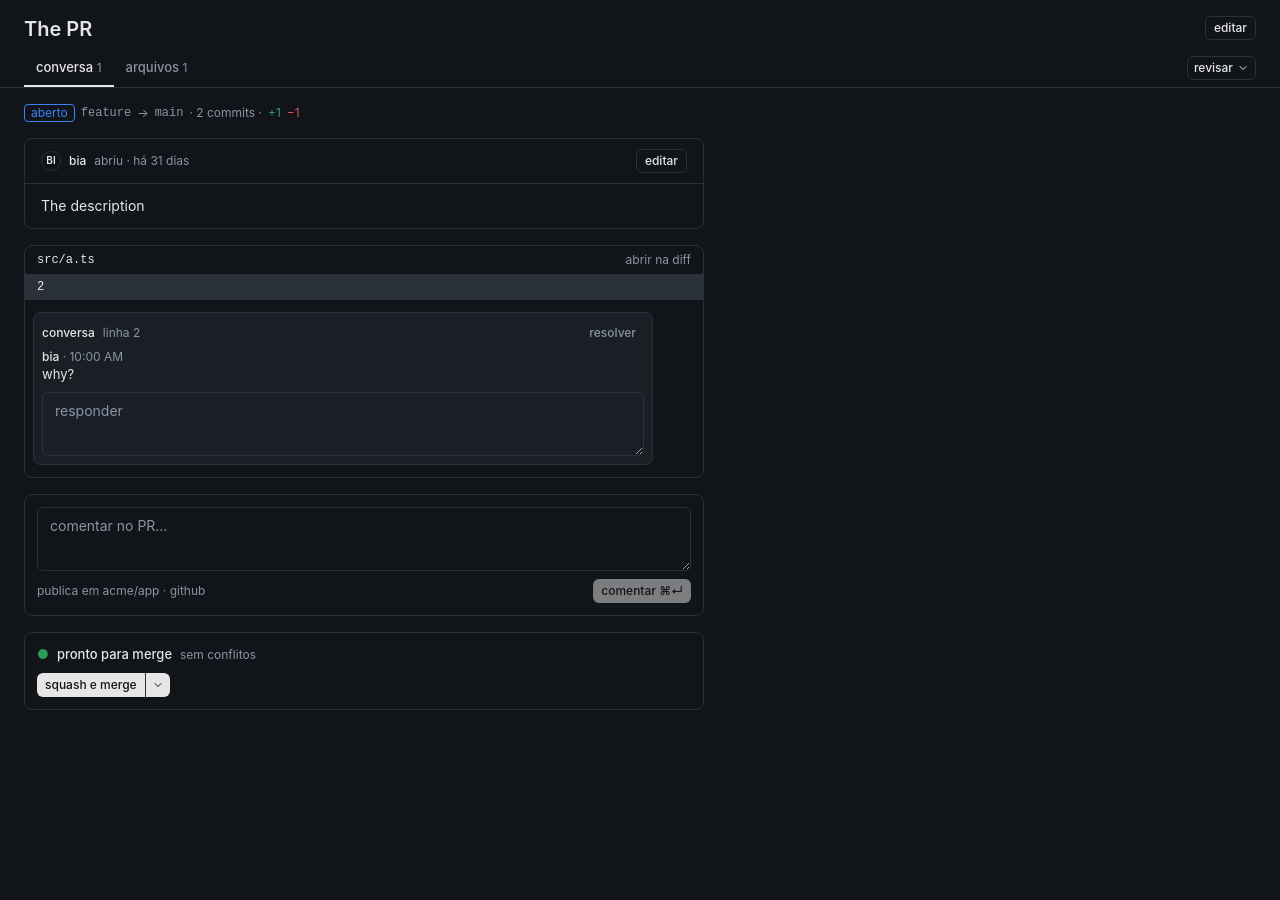
Test: a comment waits for a summary or a draft; an approval or a change request goes without; GitHub's refusal stays in the popover (#758)
Click the button "revisar" at (1221, 68), box [1187, 56, 1256, 80]
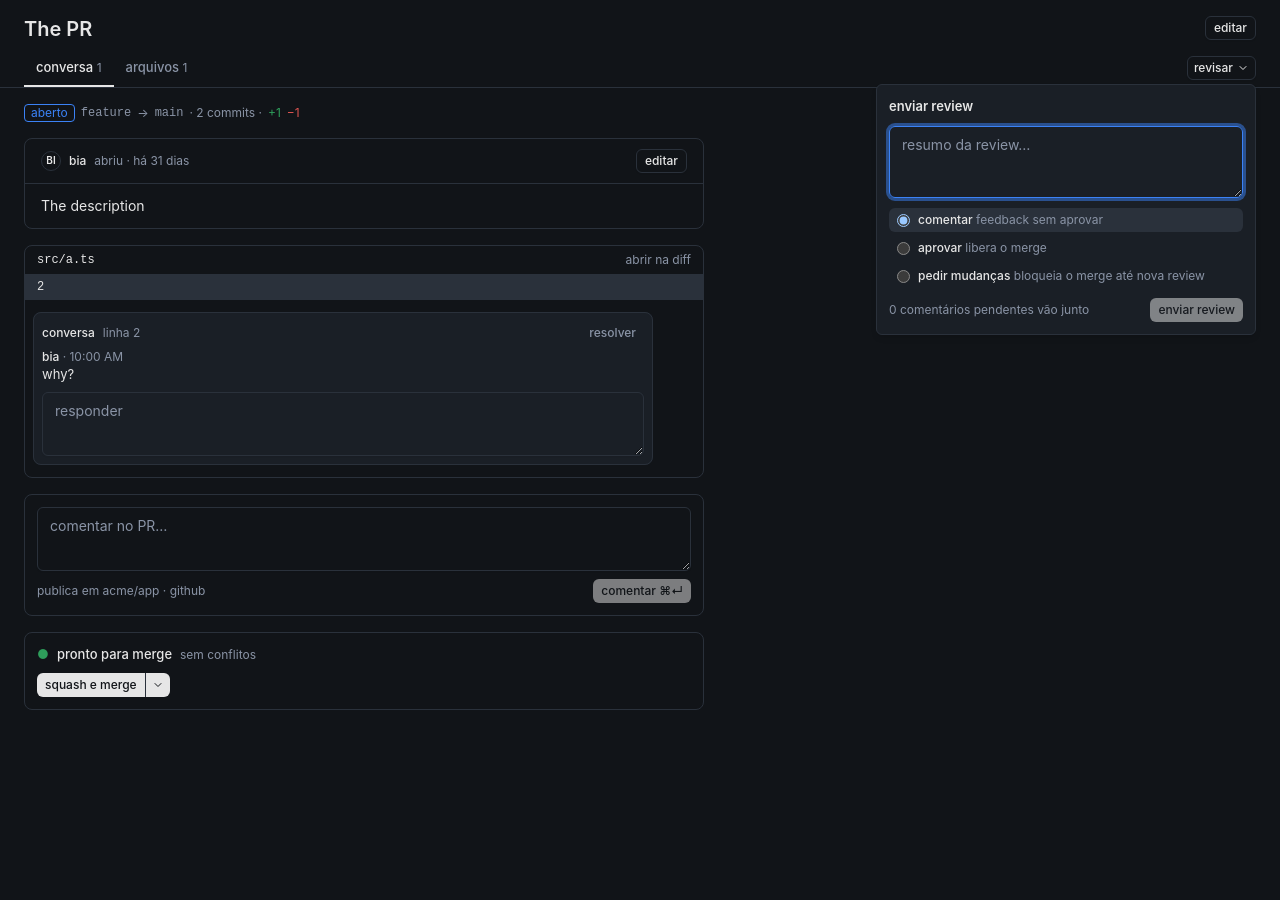
Result: the button "enviar review" is disabled at [1150, 298, 1243, 322]
Type "x" into the text box labelled "resumo da review…" at (1066, 162), box [889, 126, 1243, 198]
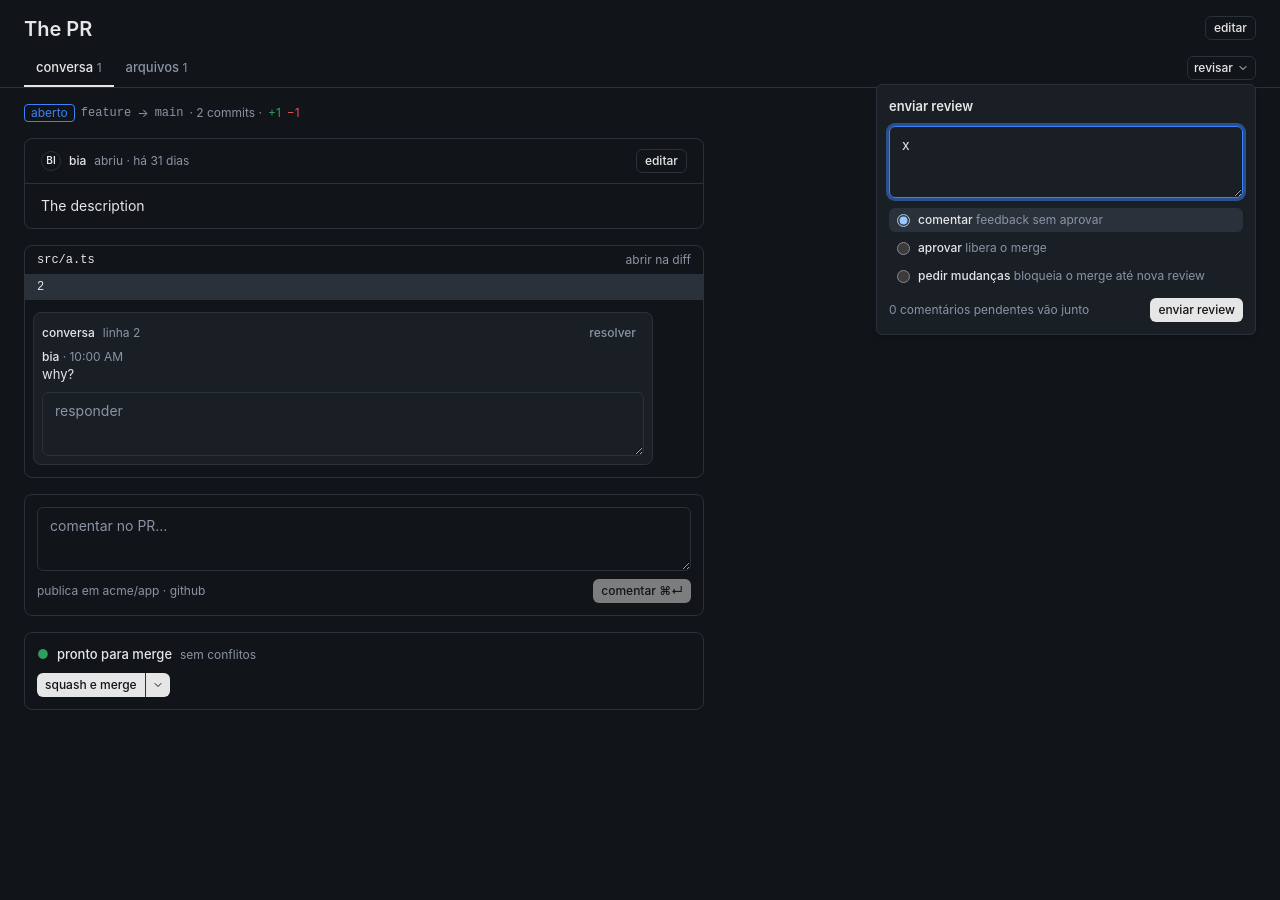
Result: the button "enviar review" is enabled at [1150, 298, 1243, 322]
Clear the text box named "resumo da review…" at (1066, 162), box [889, 126, 1243, 198]
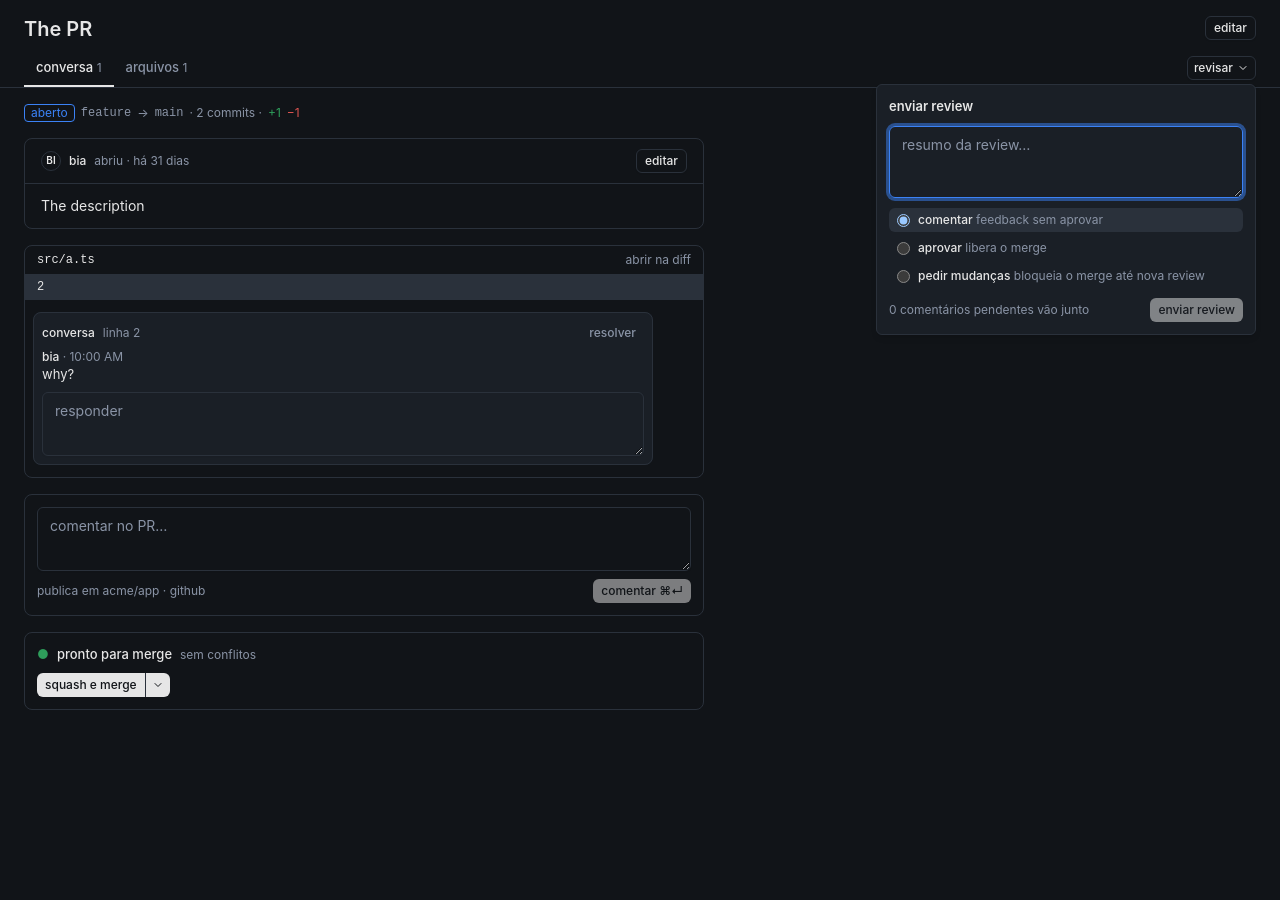
Result: the button "enviar review" is disabled at [1150, 298, 1243, 322]
Click the radio button labelled "pedir mudanças bloqueia o merge até nova review" at (904, 276), box [897, 270, 910, 283]
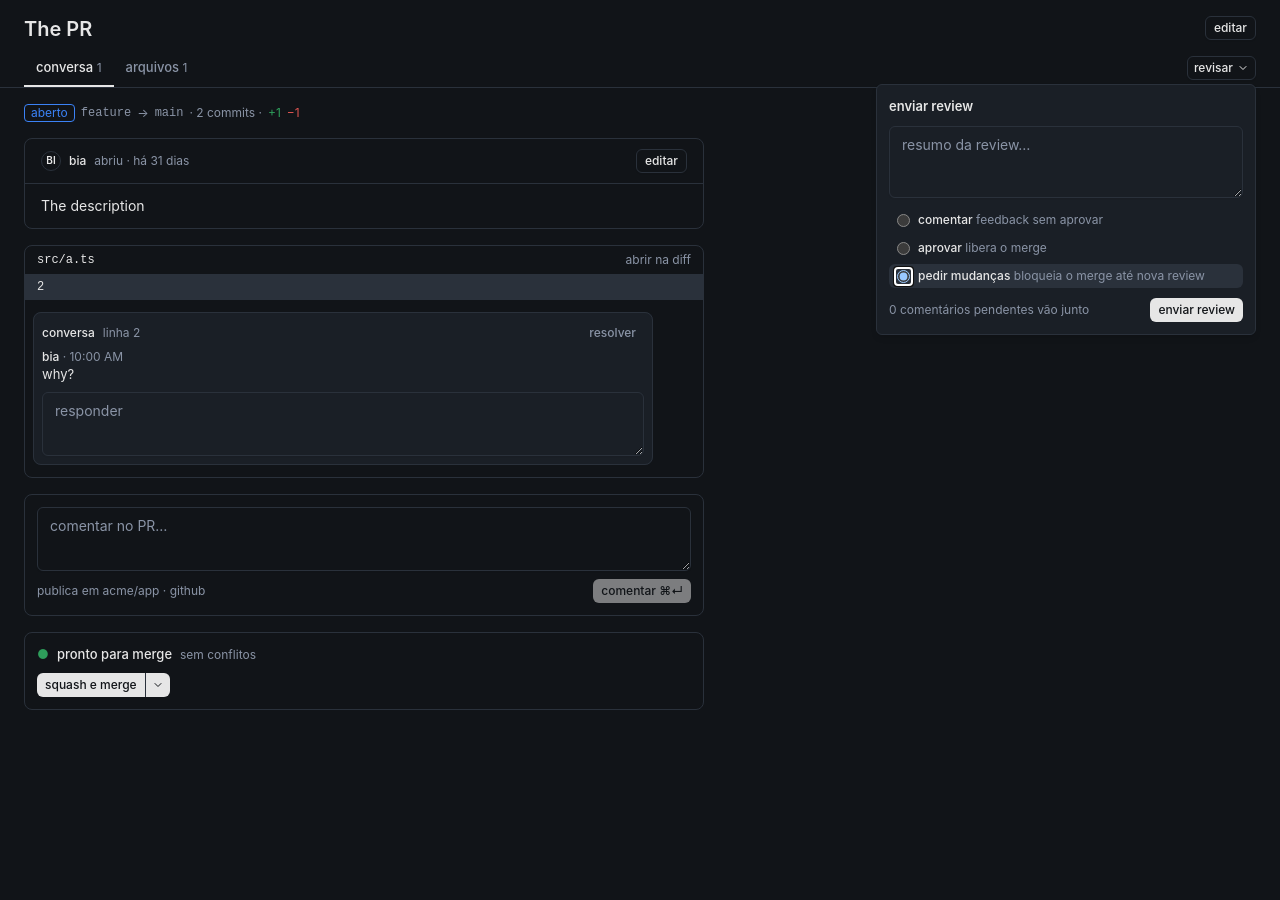
Result: the button "enviar review" is enabled
Click the button "enviar review" at (1197, 310), box [1150, 298, 1243, 322]
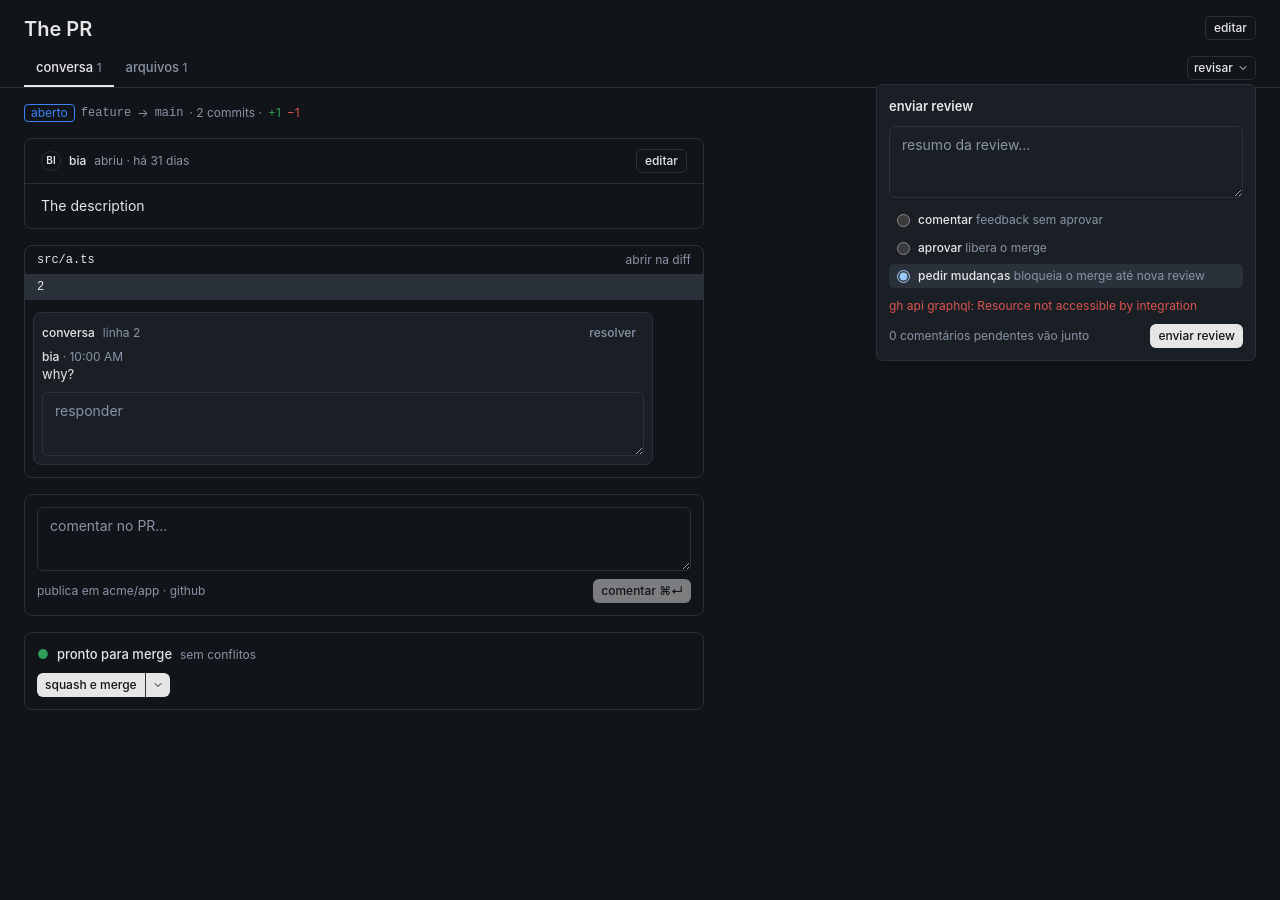
Result: the message shows "Resource not accessible by integration" at [889, 298, 1197, 313]
